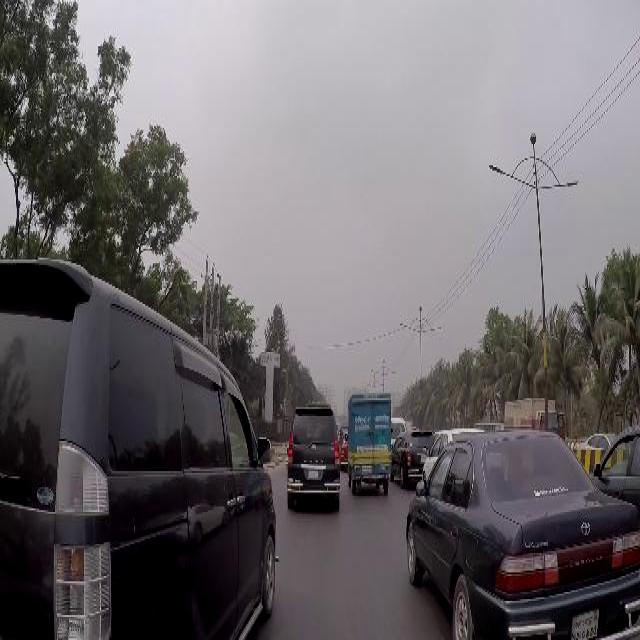TRUCK: (347, 397, 394, 496)
